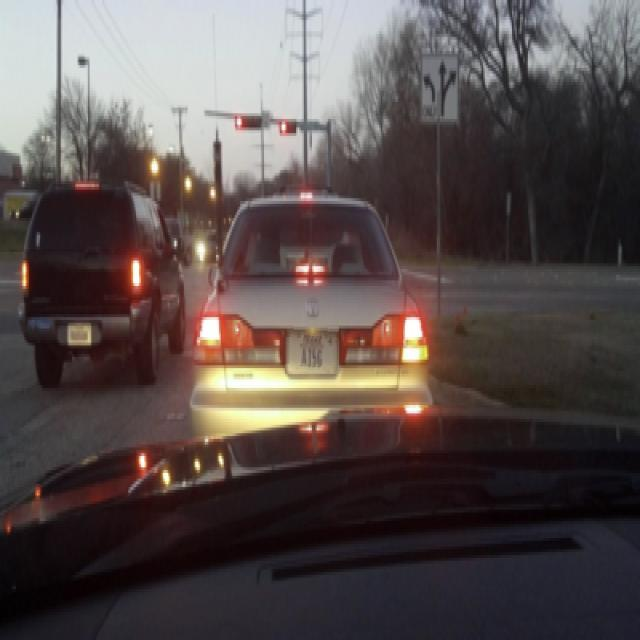licence: (285, 323, 339, 374)
